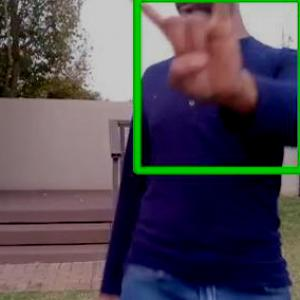takeoff-hand: (122, 0, 248, 107)
